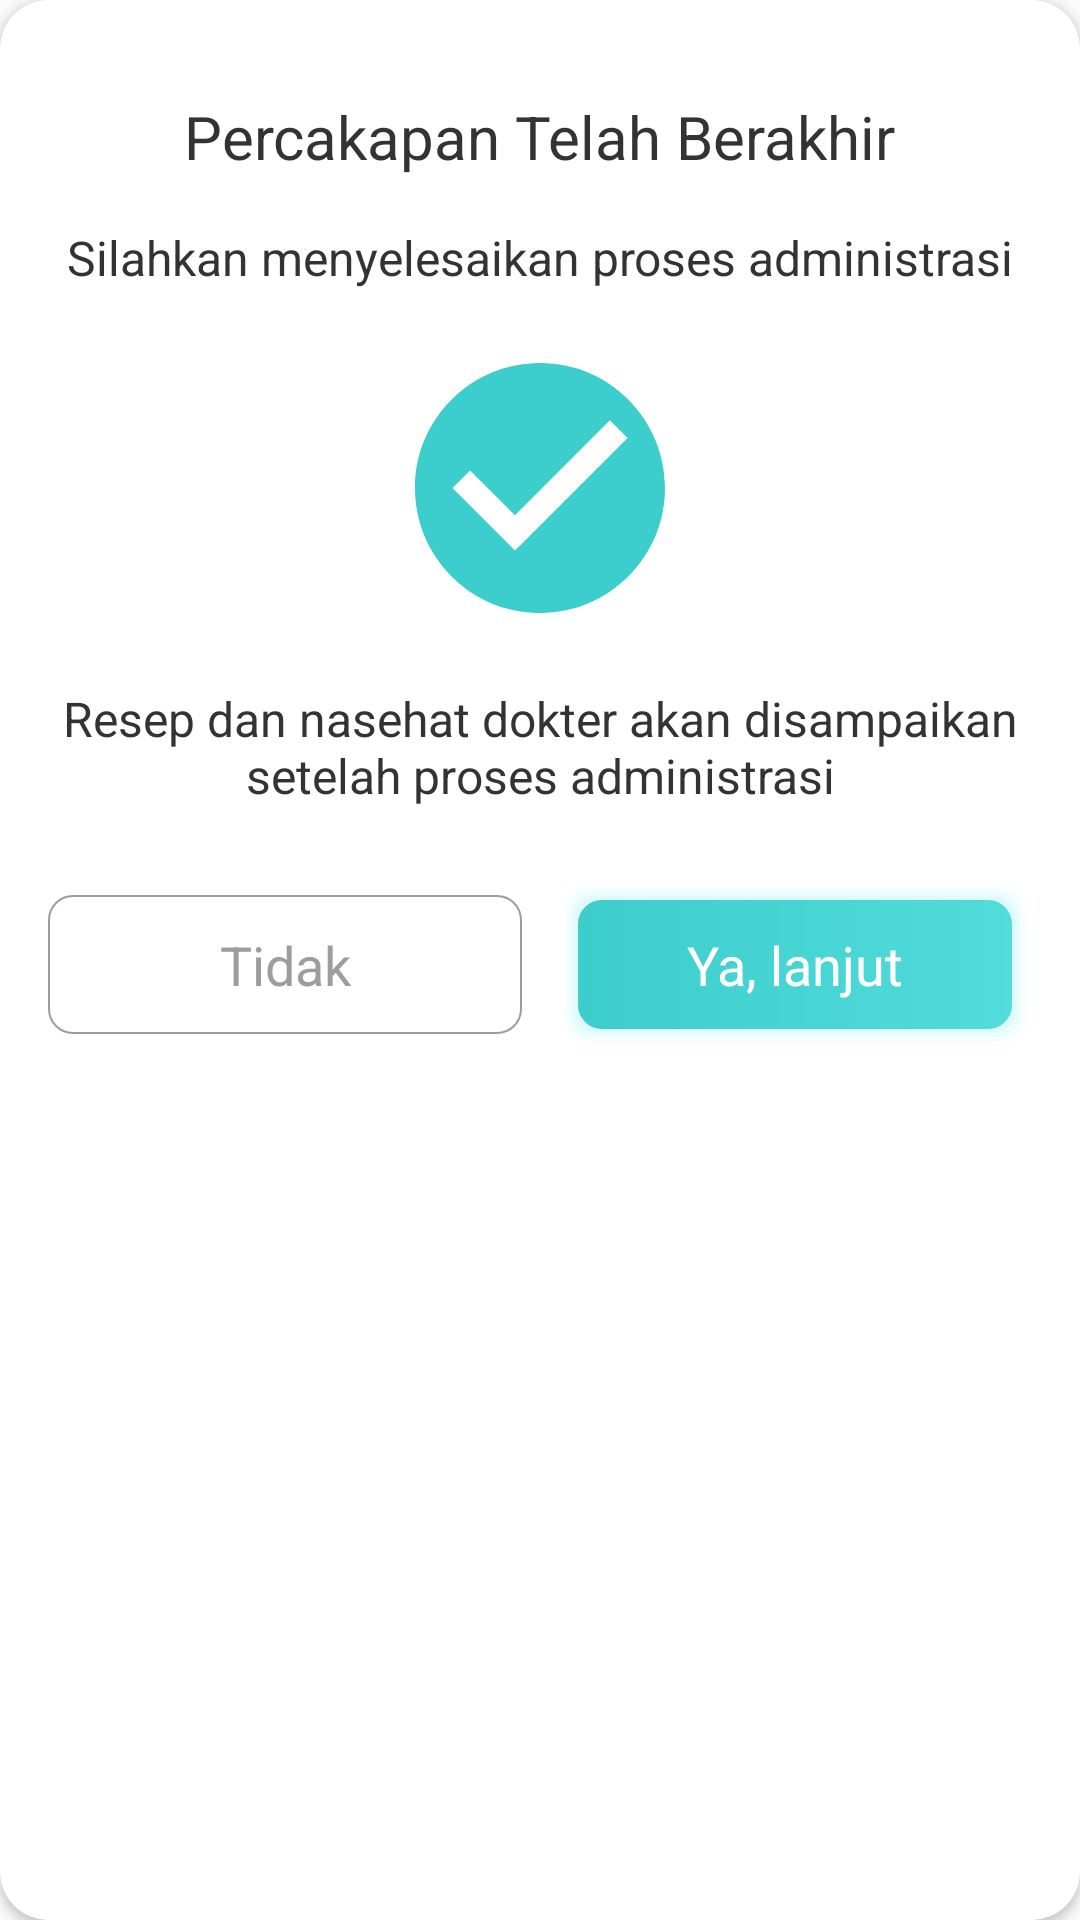

Screen size 1080px x 1920px. Icon name, then its center in pixels as point (x, y):
check circle: point (540, 488)
